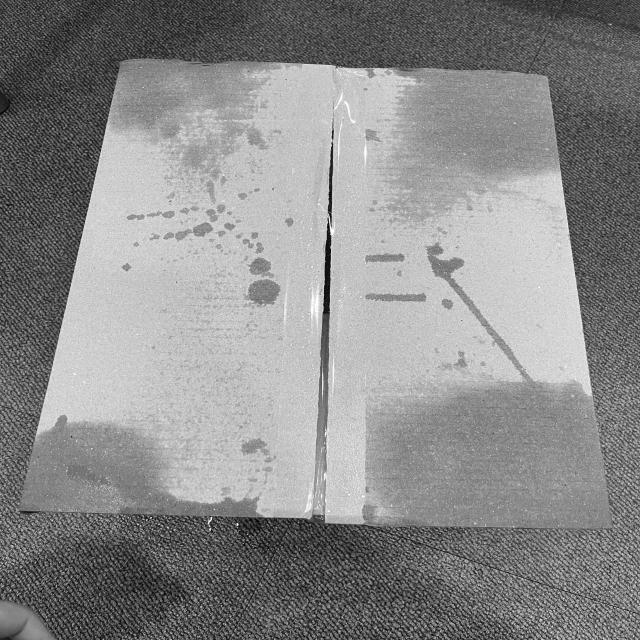wet: (357, 383, 595, 526), (17, 409, 279, 517), (392, 71, 560, 221), (110, 63, 270, 183)
